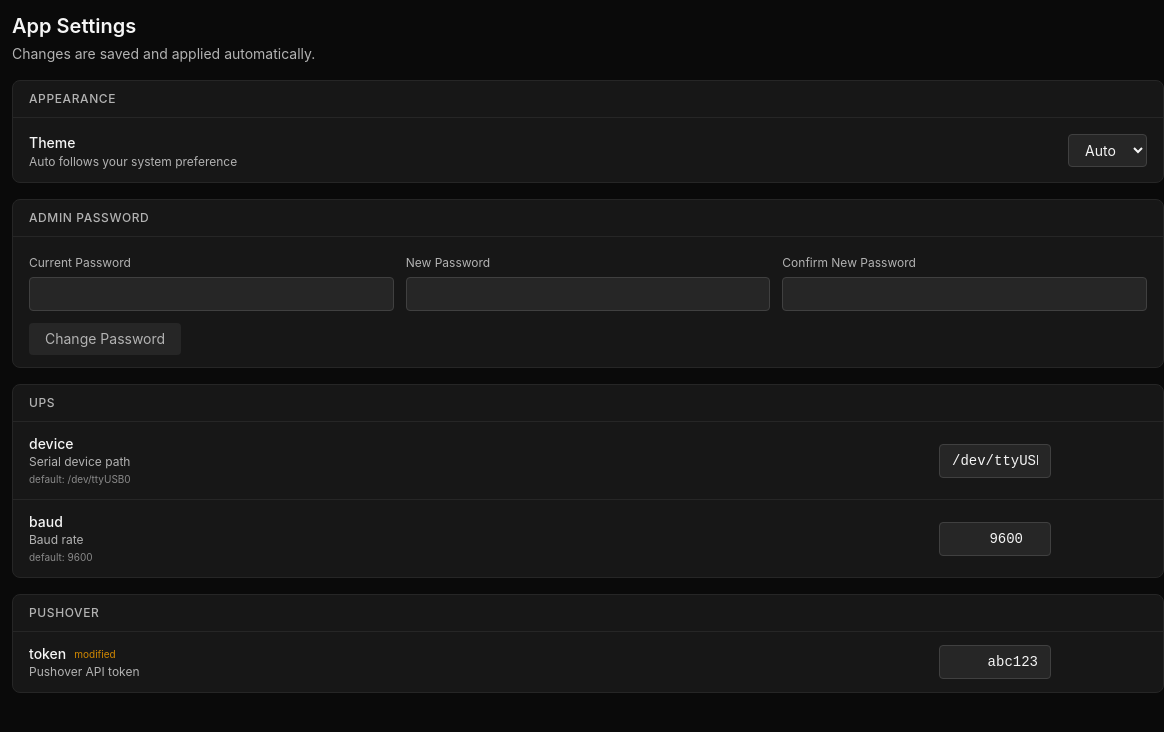
AppConfig › password change validates confirmation match
The image size is (1164, 732).
Expected: the button "Change Password" is shown, [29,323,181,355]
Step 1. Type "oldpass" into the password field below "Current Password" → (211, 294), box [29,277,394,311]
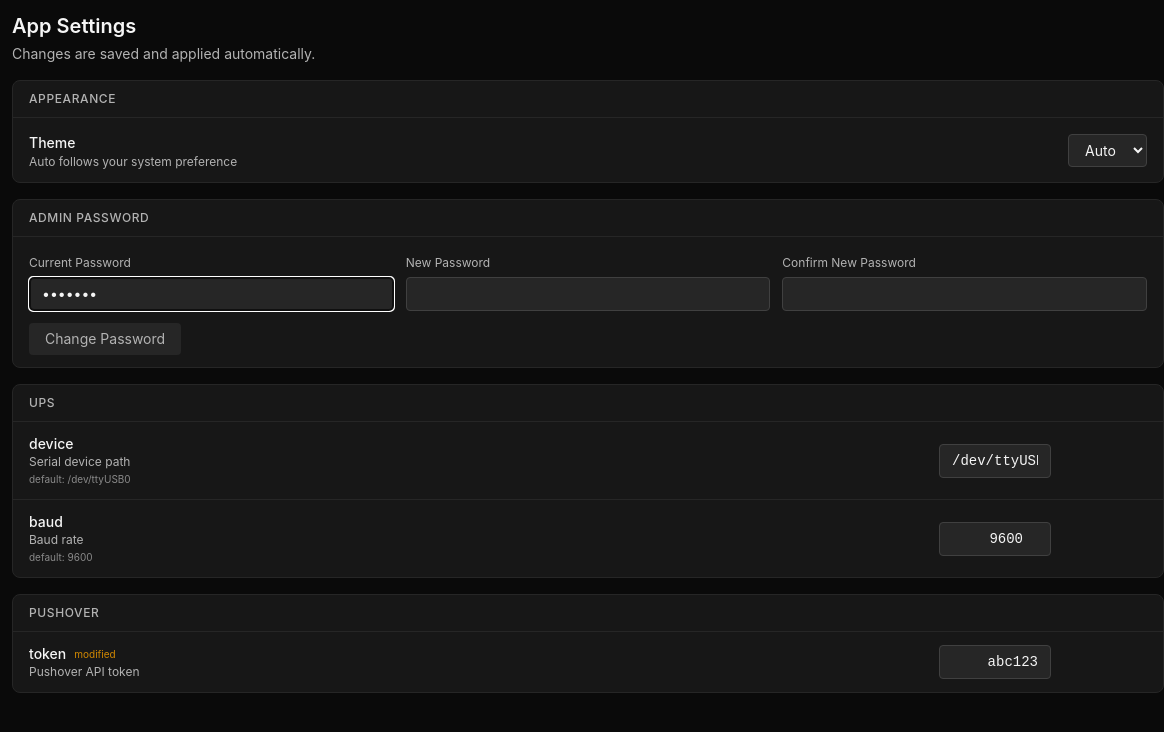
Step 2. Type "newpass1" into the 2nd password field → (588, 294), box [406,277,770,311]
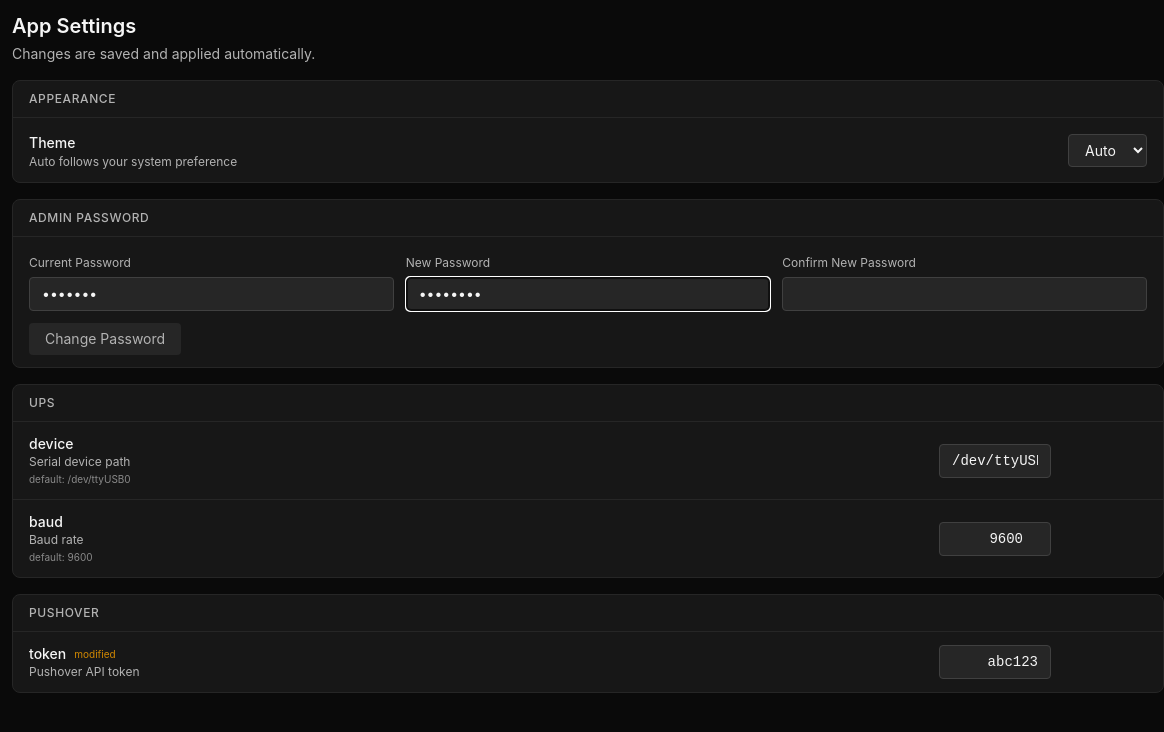
Step 3. Type "newpass2" into the password field below "Confirm New Password" → (965, 294), box [782,277,1147,311]
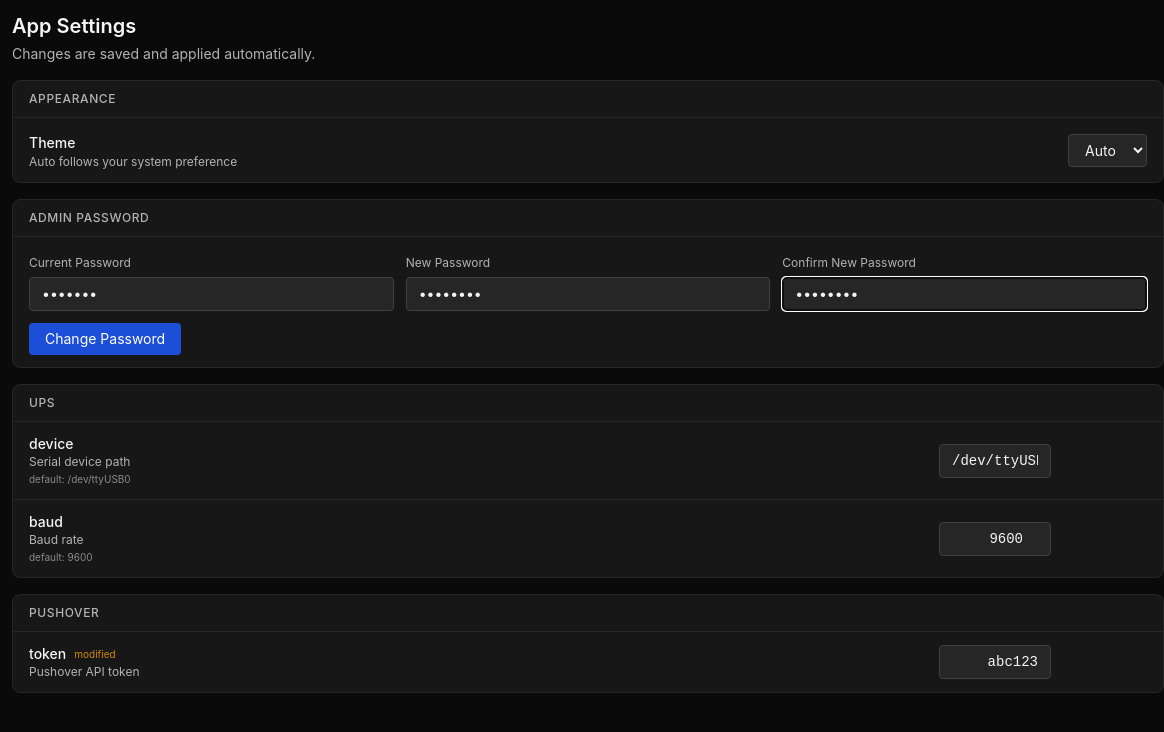
Step 4. Click the button "Change Password" → (105, 339), box [29,323,181,355]
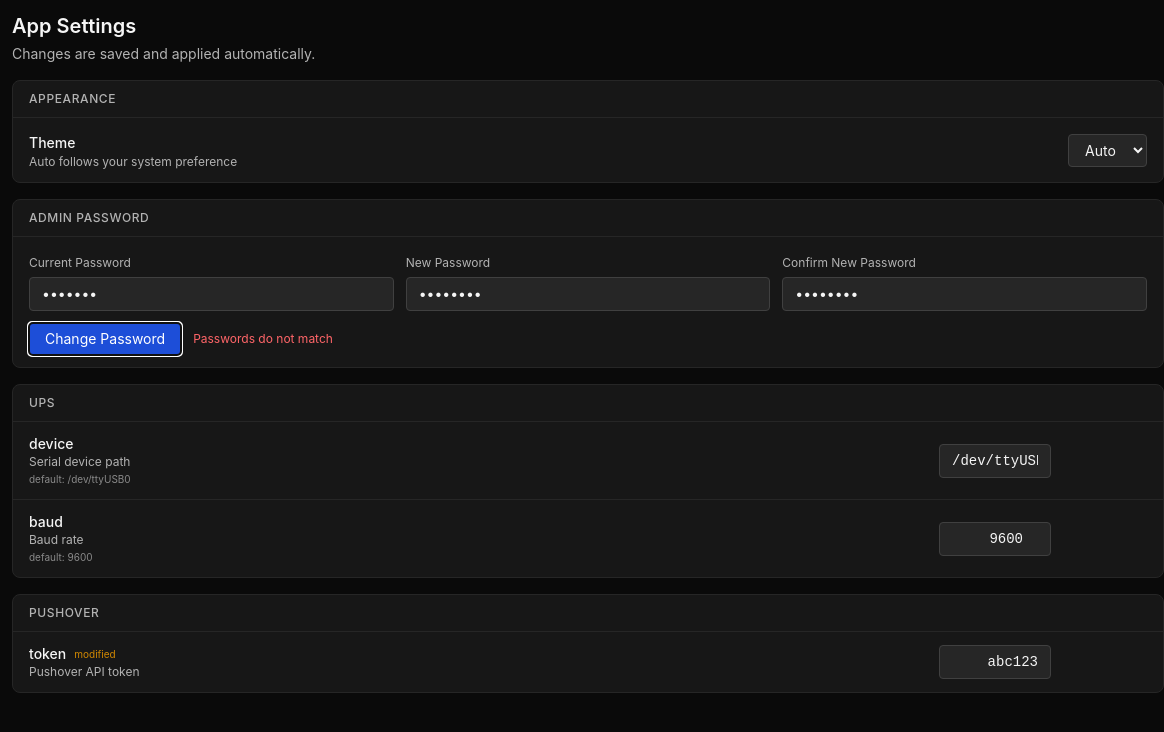
Now the text "Passwords do not match" is shown, box [193,331,333,347]
